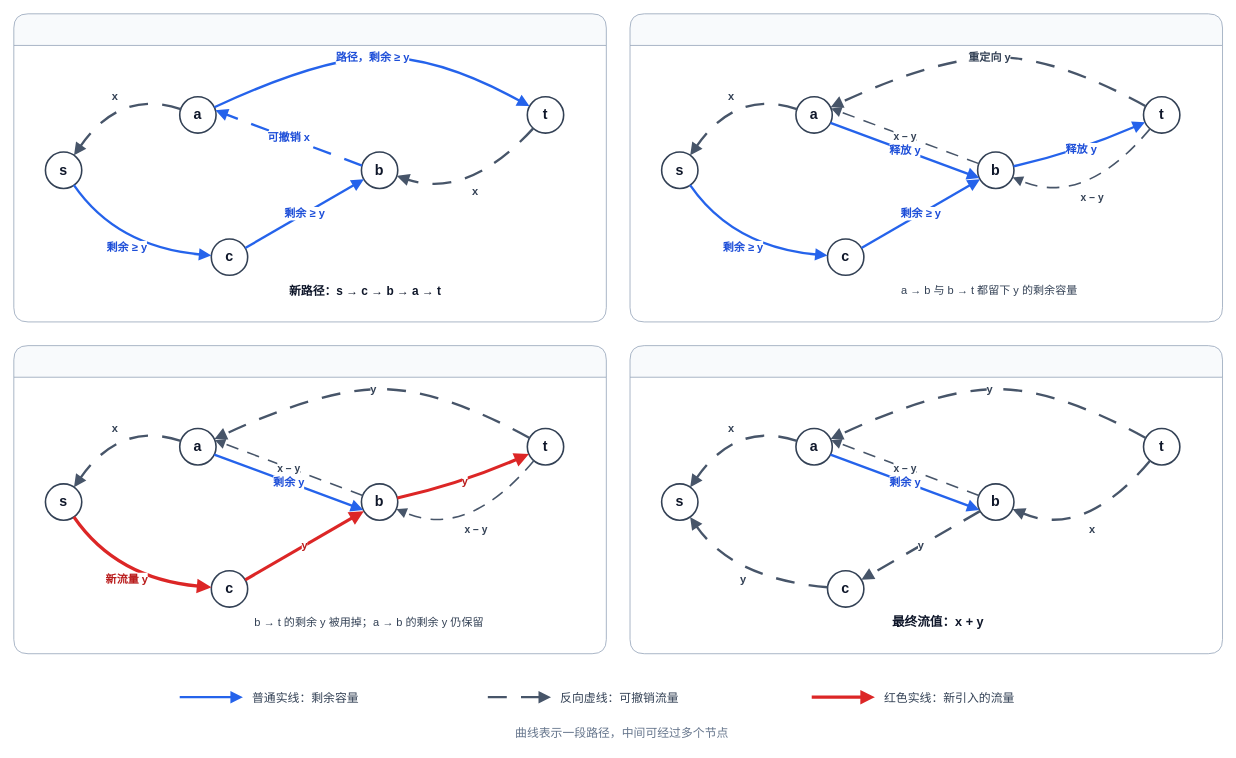
This 1236x758 diagram has some shape labels left out. Each missing label, with the box of its shape:
① 找到调整路径，取 y ≤ x: (13, 13, 606, 322)
② 重定向 y：总流值仍为 x: (629, 13, 1223, 322)
③ 引入红色新流量 y：流值变为 x + y: (13, 345, 606, 654)
④ 把新流量也反向记录: (629, 345, 1223, 654)
